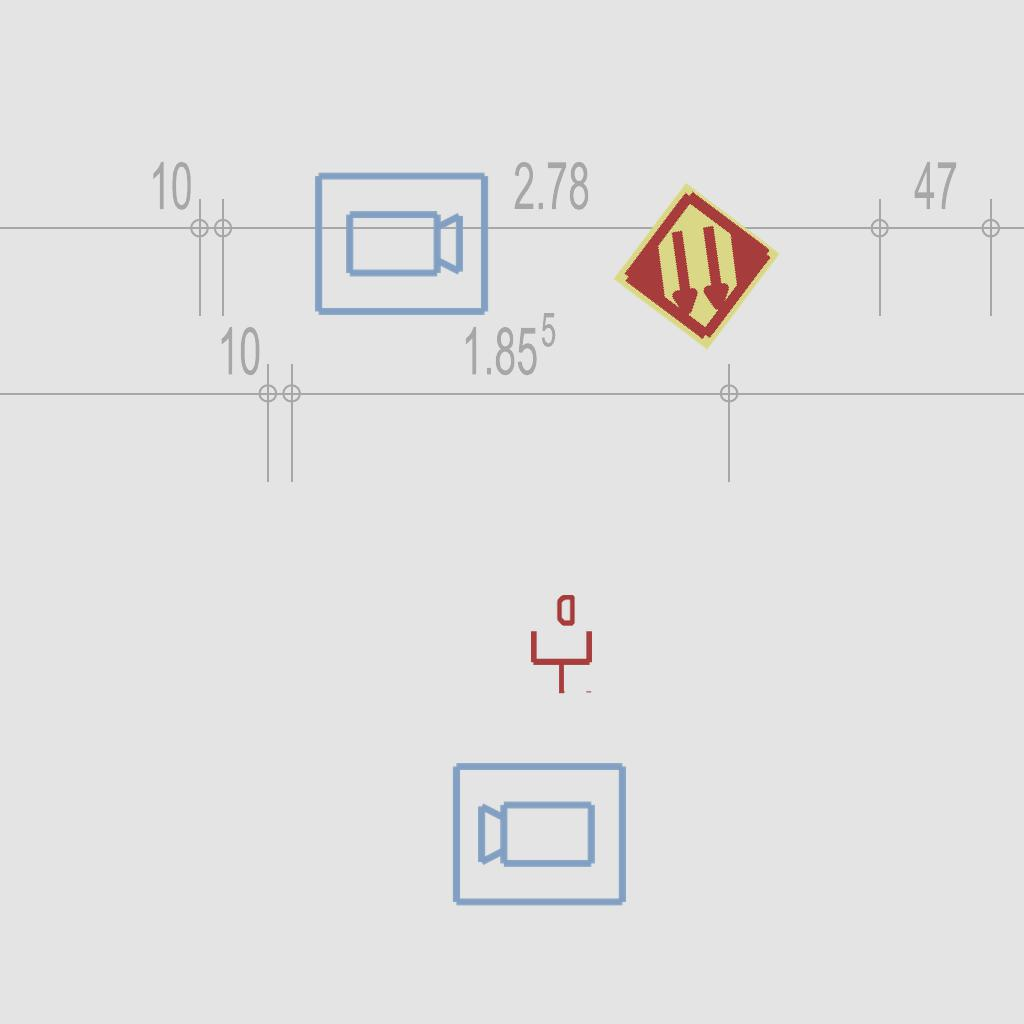ASR_Ansaugrauchmelder: (608, 178, 785, 355)
Datenanschluss_einfach: (527, 595, 596, 695)
KFO_Kamera_mit_Festobjektiv: (310, 168, 492, 322), (449, 756, 631, 910)
